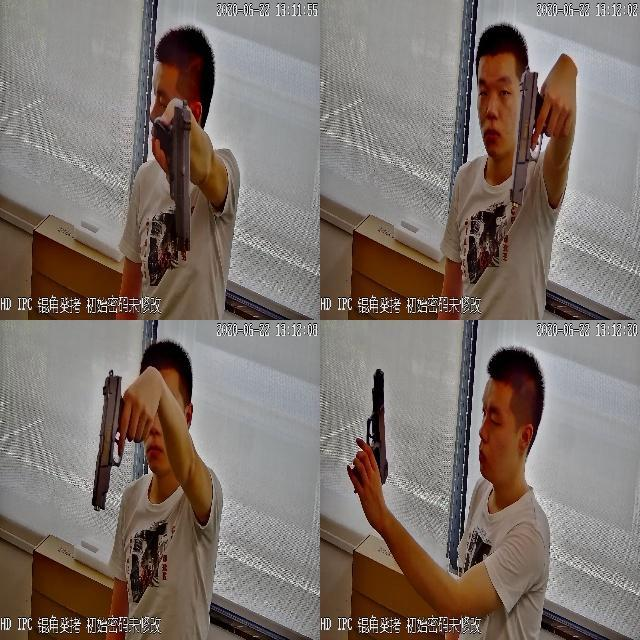gun-knife-thesis - v11 Yolov5 augmented: (505, 61, 572, 209), (90, 365, 153, 516), (147, 97, 198, 257), (344, 367, 389, 485)
